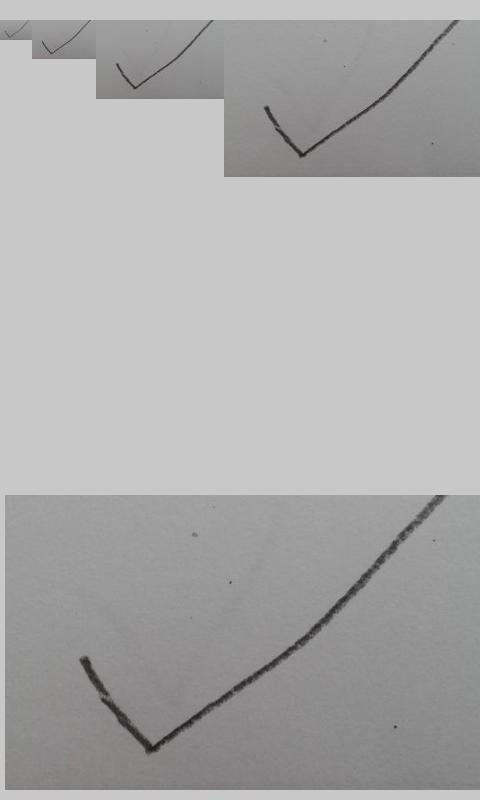check_box: (80, 516, 420, 756), (264, 41, 436, 158), (116, 33, 201, 90), (42, 28, 83, 54), (4, 23, 26, 38)
